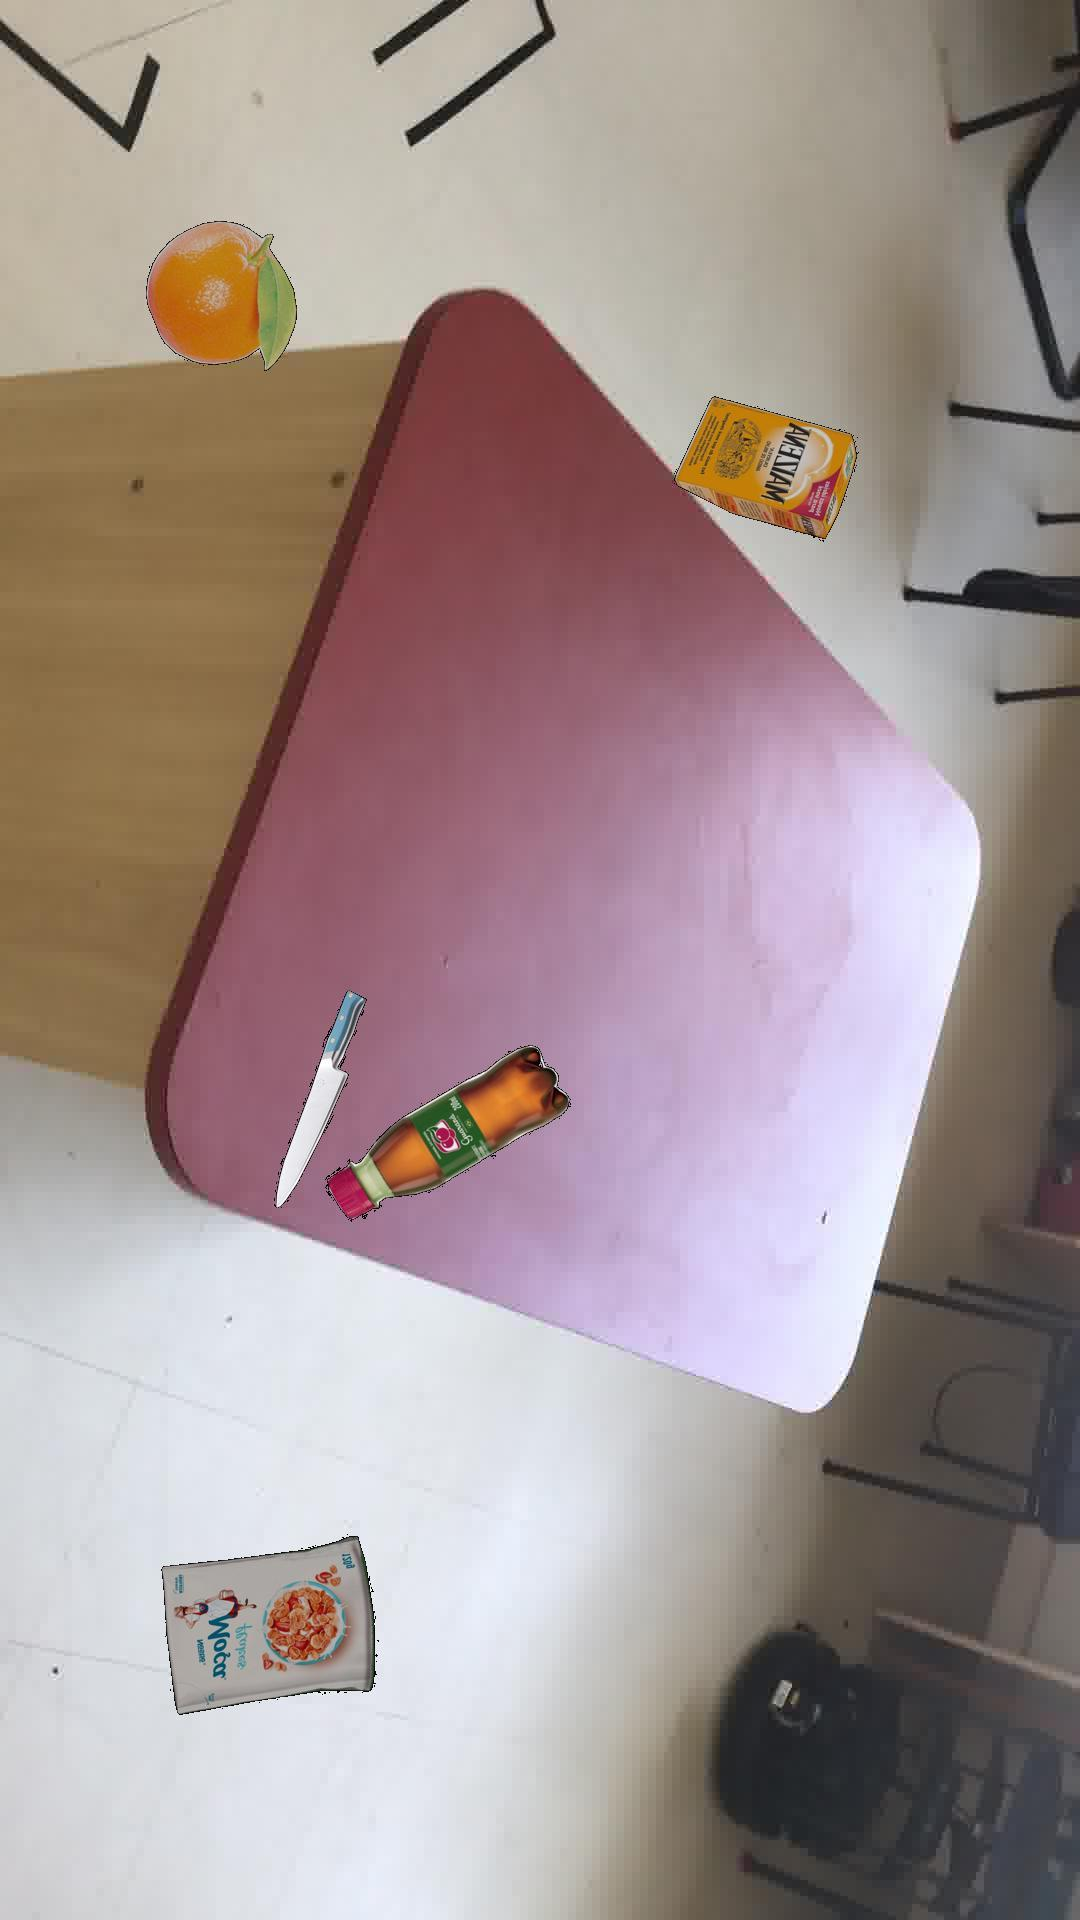corn flakes: (160, 1535, 377, 1713)
guarana: (324, 1043, 570, 1221)
knife: (273, 989, 365, 1207)
orange: (145, 219, 295, 369)
